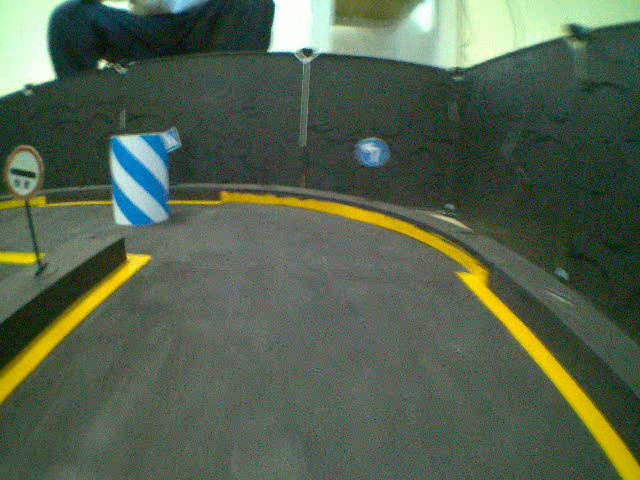bucket: (107, 131, 170, 228)
